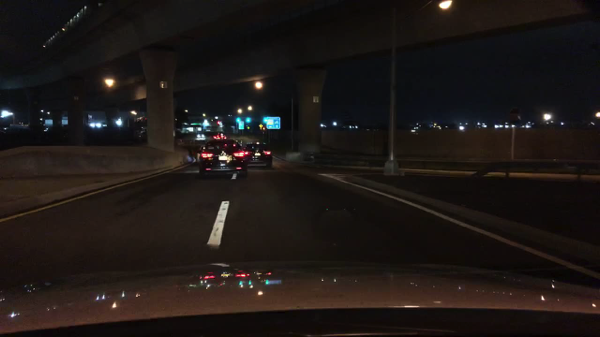car: (197, 139, 248, 177), (243, 141, 273, 169), (132, 115, 147, 140), (211, 131, 227, 140), (88, 121, 106, 129), (196, 131, 205, 139)
traffic sign: (266, 117, 280, 128), (237, 122, 244, 131), (246, 126, 250, 131), (259, 124, 262, 129)
